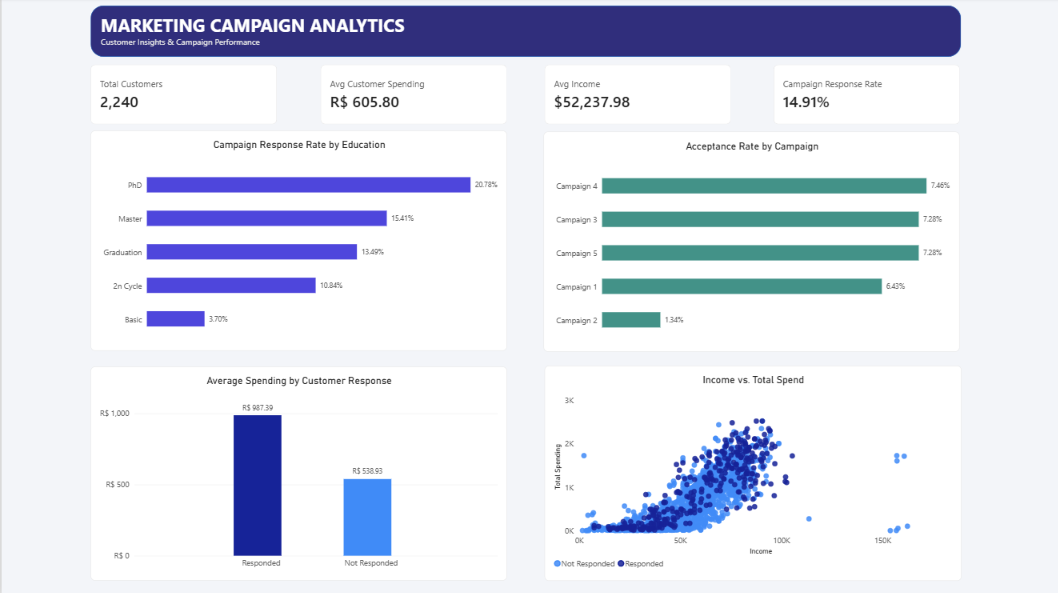

Layout of this report page (visuals, bound fields, positions):
{"tool":"powerbi","page":{"name":"Overview","canvas":[1920,1080],"ordinal":0},"visuals":[{"type":"shape","box":[161.2,13.8,1575,92.5],"z":0},{"type":"cardVisual","title":"Not ","fields":{"Data":["marketing_campaign.Total Customers"]},"box":[161.2,121.2,337.5,108.8],"z":1000},{"type":"cardVisual","fields":{"Data":["marketing_campaign.Avg Customer Spending"]},"box":[577.5,121.2,337.5,108.8],"z":2000},{"type":"cardVisual","fields":{"Data":["marketing_campaign.Campaign Response Rate"]},"box":[1397.9,120.8,337.5,108.8],"z":3000},{"type":"cardVisual","fields":{"Data":["marketing_campaign.Avg Income"]},"box":[983.3,120.8,337.5,108.8],"z":4000},{"type":"clusteredBarChart","title":"Campaign Response Rate by Education","fields":{"Category":["marketing_campaign.Education"],"Y":["marketing_campaign.Campaign Response Rate"]},"box":[161.1,240.7,753.7,398.1],"z":5000},{"type":"clusteredBarChart","title":"Acceptance Rate by Campaign","fields":{"Category":["Campaign Responses.Campaign"],"Y":["Campaign Responses.Acceptance Rate"]},"box":[981.2,241.7,753,398.1],"z":7000},{"type":"clusteredColumnChart","title":"Average Spending by Customer Response","fields":{"Category":["marketing_campaign.Customer Group"],"Y":["marketing_campaign.Avg Customer Spending"]},"box":[161.1,668.5,753.7,387],"z":8000},{"type":"scatterChart","title":"Income vs. Total Spend","fields":{"Category":["marketing_campaign.ID"],"Series":["marketing_campaign.Response Status"],"X":["Sum(marketing_campaign.Income)"],"Y":["Sum(marketing_campaign.Total Spending)"]},"box":[983.3,666.7,754.2,389.6],"z":9000},{"type":"textbox","box":[178.8,26.2,1741.2,80],"z":9500}]}

Visuals, with their boxes in screenshot pixels (x1, y1, x2, y2), scaled from the page's 1920x1080 canvas onto the 1058x593 screenshot:
shape: <box>89,8,957,58</box>
"Not " cardVisual: <box>89,67,275,126</box>
cardVisual - marketing_campaign.Avg Customer Spending: <box>318,67,504,126</box>
cardVisual - marketing_campaign.Campaign Response Rate: <box>770,66,956,126</box>
cardVisual - marketing_campaign.Avg Income: <box>542,66,728,126</box>
"Campaign Response Rate by Education" clusteredBarChart: <box>89,132,504,351</box>
"Acceptance Rate by Campaign" clusteredBarChart: <box>541,133,956,351</box>
"Average Spending by Customer Response" clusteredColumnChart: <box>89,367,504,580</box>
"Income vs. Total Spend" scatterChart: <box>542,366,957,580</box>
textbox: <box>99,14,1057,58</box>
